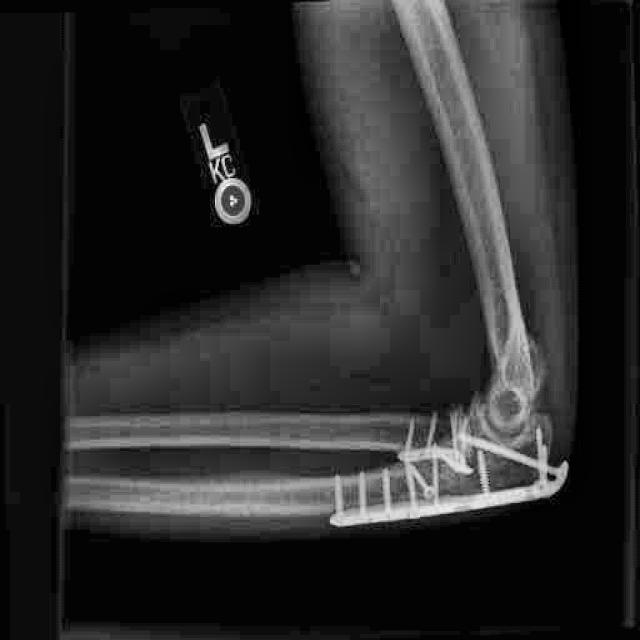elbow positive: (460, 365, 503, 427)
